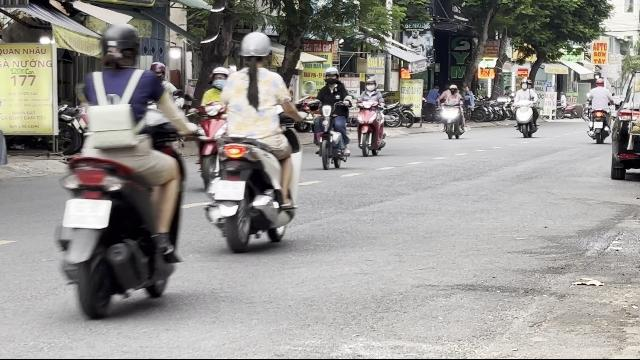helmet: (99, 23, 141, 69), (238, 30, 272, 68), (210, 66, 230, 88), (323, 65, 339, 83), (364, 76, 376, 90)
licenseplate: (64, 199, 110, 227), (214, 180, 243, 200)
motorcyclist: (53, 20, 193, 320), (198, 28, 304, 253), (311, 65, 353, 169), (352, 76, 388, 156)
